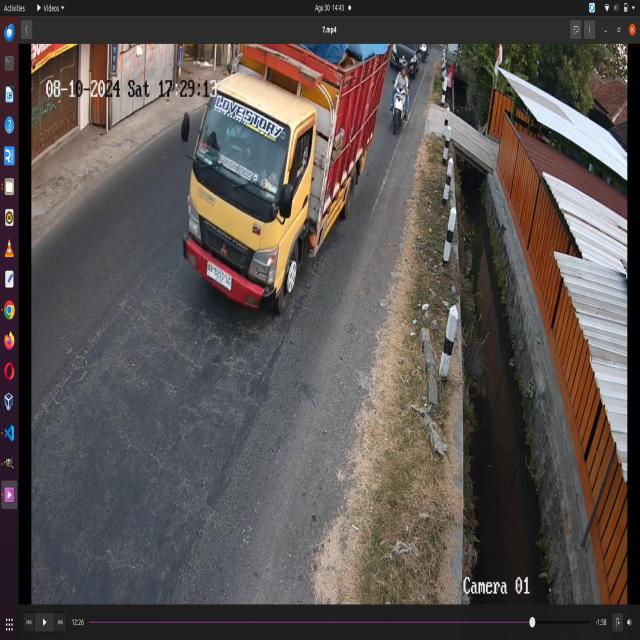person_without_seatbelt: (221, 110, 260, 172)
